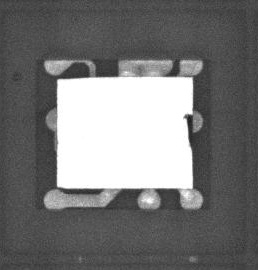DIE_BROKEN: (182, 112, 193, 164)
